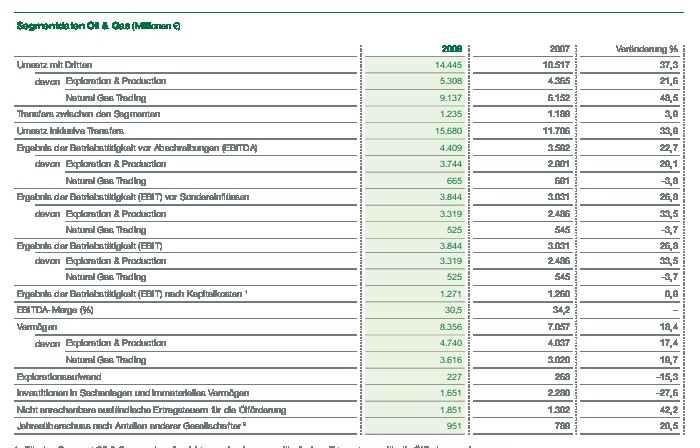table: (0, 0, 700, 448)
